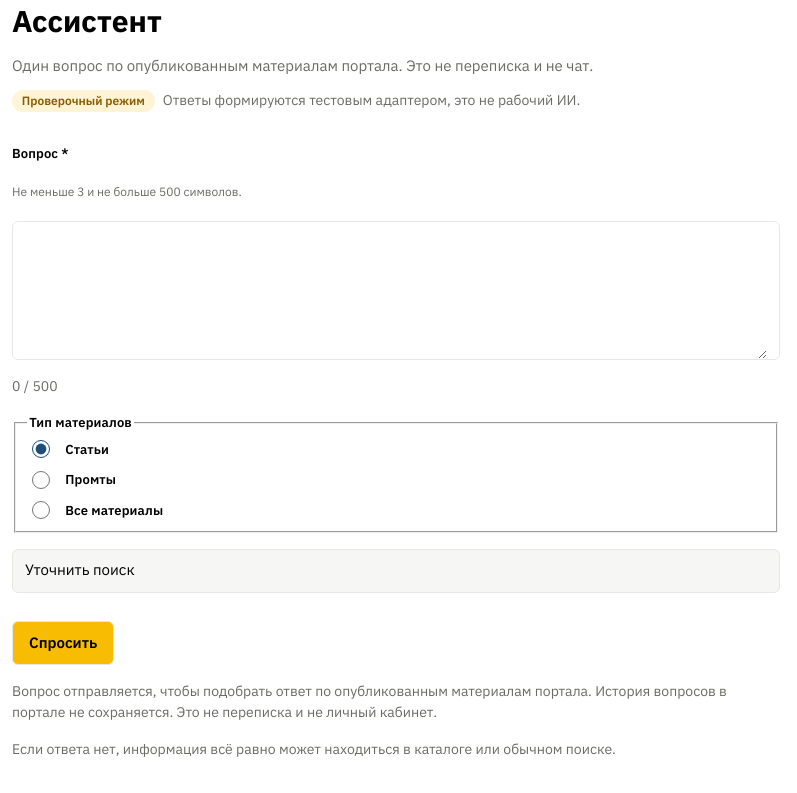
Test: assistant form › blocks double submit while pending
In the text box labelled "Вопрос *": (396,291) [25,222,767,359], type "Как оформить отпуск?"
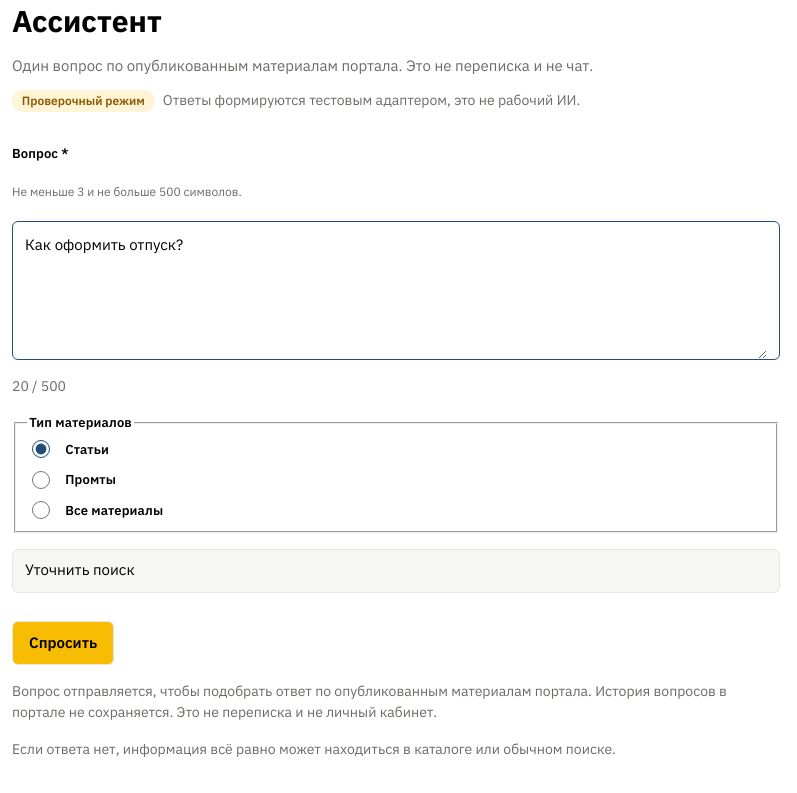
Click the button "Спросить": (63,642) [12,620,114,664]
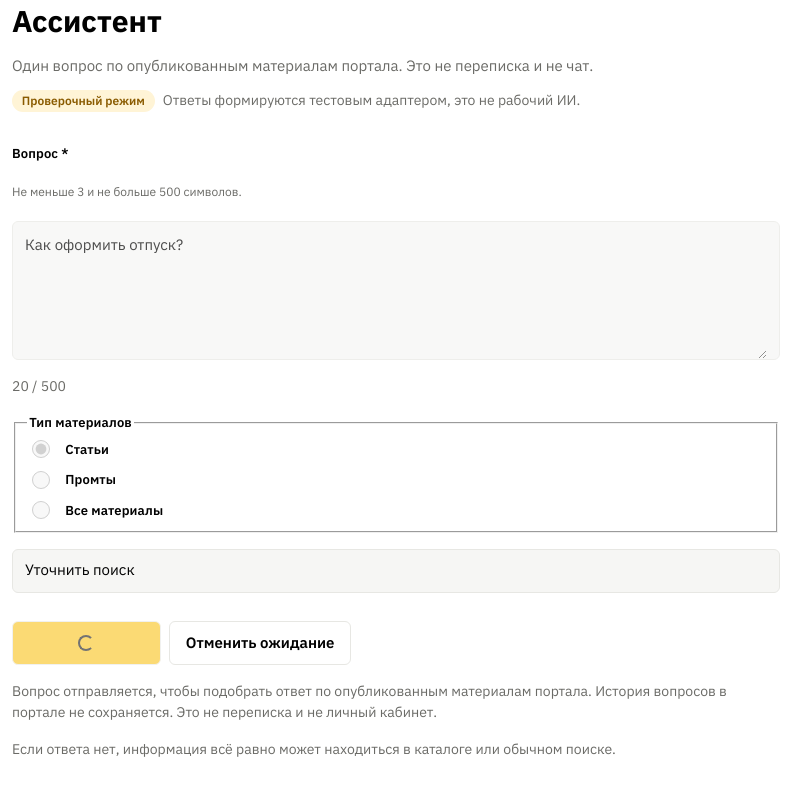
Expected: the button named "Готовим ответ…" is disabled
Click the button named "Готовим ответ…": (86,642) [12,620,161,664]
(page scrolled)
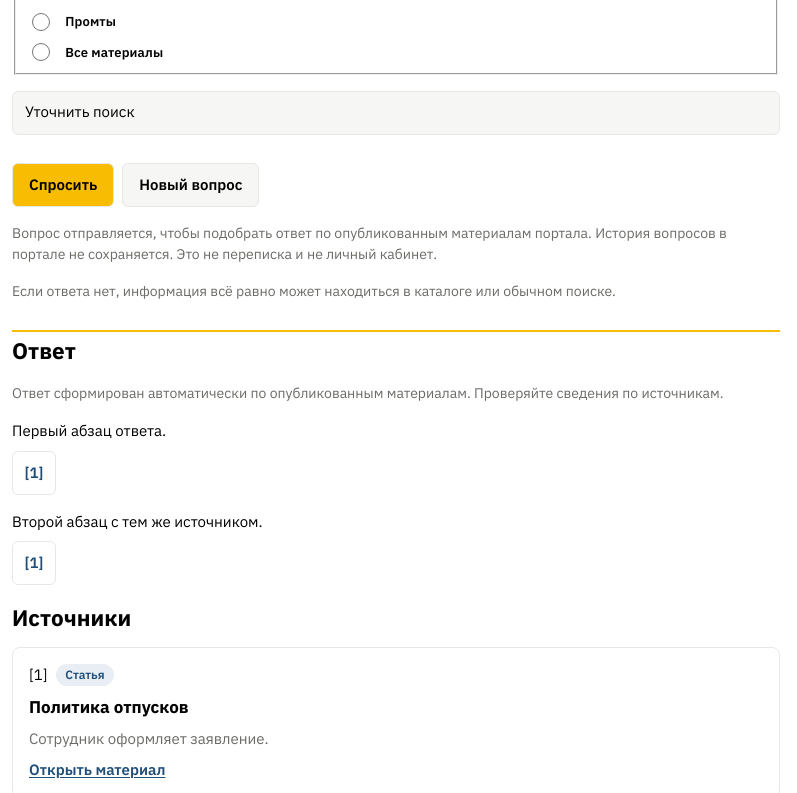
Expected: the heading "Ответ" is shown, [12,336,76,364]
